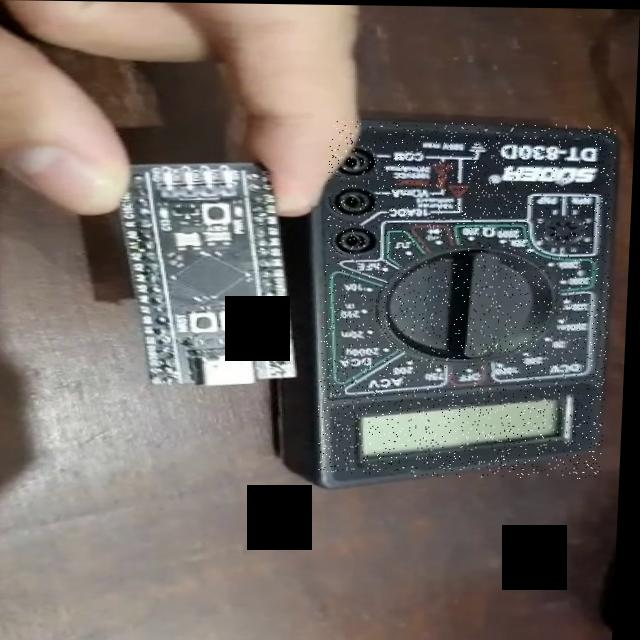multimeter: (319, 120, 618, 477)
stm32: (119, 170, 315, 388)
